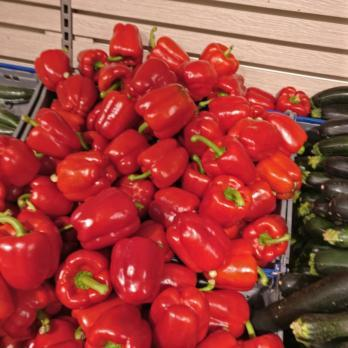Capsicum: (0, 92, 311, 300), (38, 46, 241, 348)
